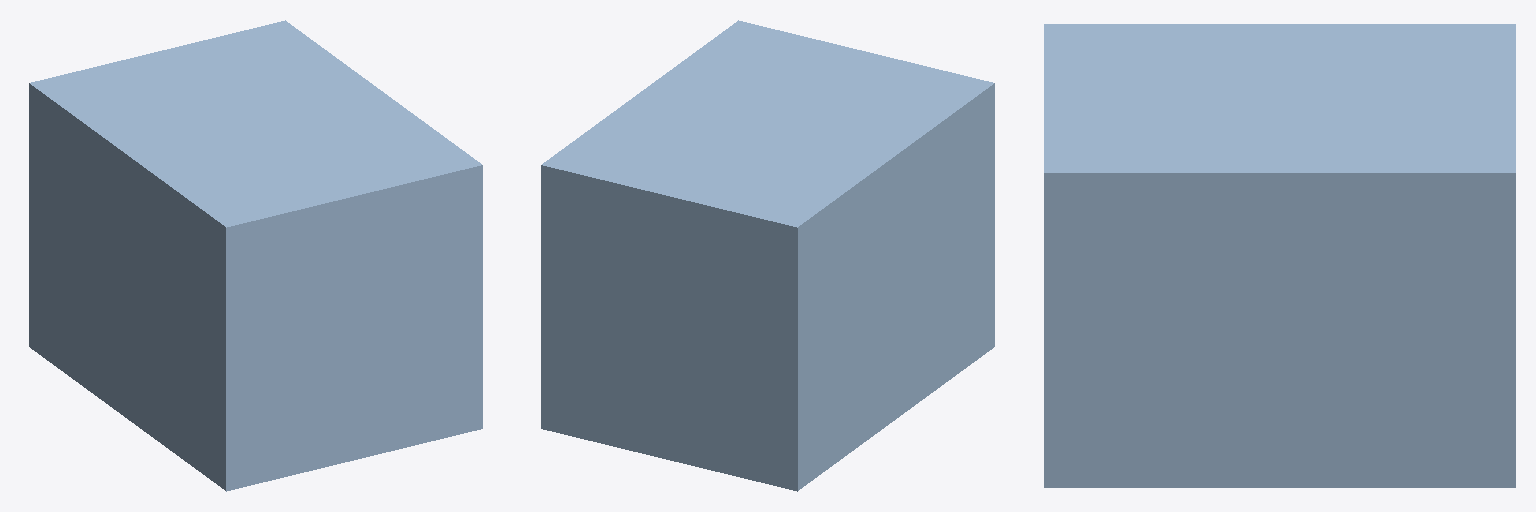
URDF robot description (box_0p4526_0p6035_0p4450):
<?xml version="1.0" ?>
<robot name="box_0p4526_0p6035_0p4450">
  <dynamics damping="0.5" friction="0.9"/>
  <link name="box_0p4526_0p6035_0p4450_link">
    <inertial>
      <mass value="0.1"/>
      <origin xyz="0 0 0"/>
      <inertia ixx="0.002" ixy="0" ixz="0" iyy="0.002" iyz="0" izz="0.002"/>
    </inertial>
    <contact>
      <lateral_friction value="0.9"/>
      <rolling_friction value="0.5"/>
      <stiffness value="30000"/>
      <damping value="1000"/>
    </contact>
    <visual>
      <origin rpy="0 0 0" xyz="0 0 0"/>
      <geometry>
        <mesh filename="box_0p4526_0p6035_0p4450.obj" scale="1.0 1.0 1.0"/>
      </geometry>
      <material name="mat">
        <color rgba="0.7 0.8 0.9 0.7"/>
      </material>
    </visual>
    <collision name="box_0p4526_0p6035_0p4450">
      <origin rpy="0 0 0" xyz="0 0 0"/>
      <geometry>
        <mesh filename="box_0p4526_0p6035_0p4450.obj" scale="1.0 1.0 1.0"/>
      </geometry>
    </collision>
  </link>
</robot>

--- Render facts (derived) ---
3 views of the same robot in one strip: view 1: azimuth 30°, elevation 25°; view 2: azimuth 150°, elevation 25°; view 3: azimuth 270°, elevation 25° (orthographic).
Robot: box_0p4526_0p6035_0p4450 — 1 links, 0 joints (none); root link box_0p4526_0p6035_0p4450_link; default pose: all joints at 0.
Links seen in each view (by area): view 1: box_0p4526_0p6035_0p4450_link; view 2: box_0p4526_0p6035_0p4450_link; view 3: box_0p4526_0p6035_0p4450_link.
Link boxes in pixels (x1=…): box_0p4526_0p6035_0p4450_link: x1=29, y1=20, x2=482, y2=491; box_0p4526_0p6035_0p4450_link: x1=541, y1=20, x2=994, y2=491; box_0p4526_0p6035_0p4450_link: x1=1044, y1=24, x2=1515, y2=487.
Size in the robot's own frame: 0.4526 by 0.6035 by 0.445 metres.
Meshes: 1 distinct files referenced, 1 mesh visuals loaded (1 OBJ).
